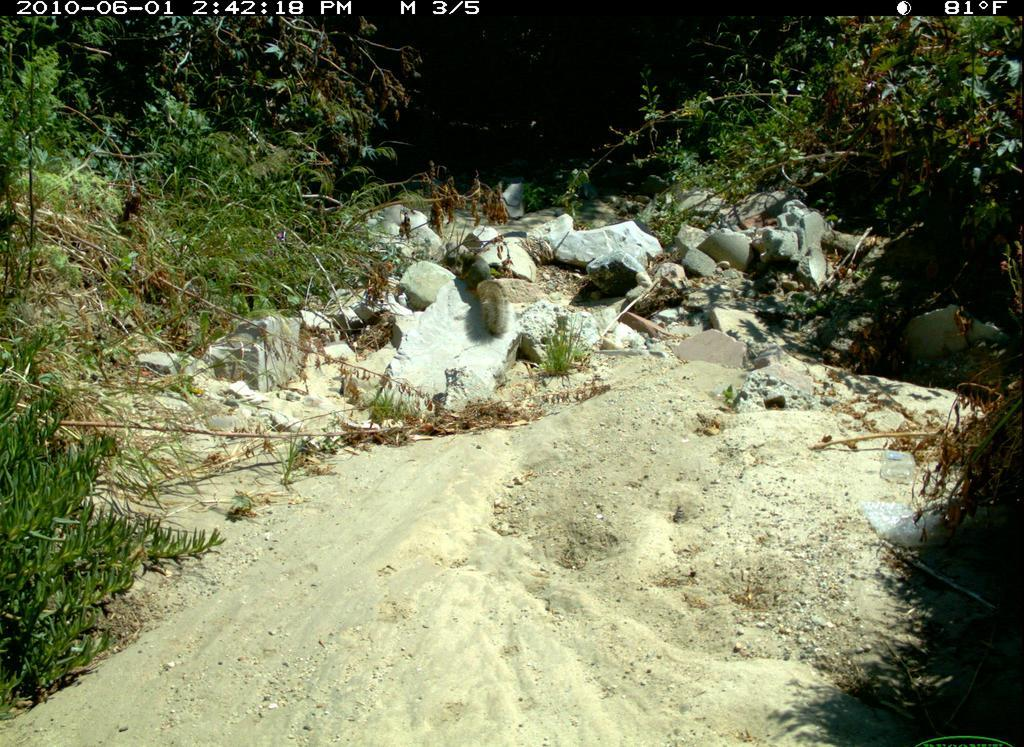squirrel: (452, 241, 521, 355)
